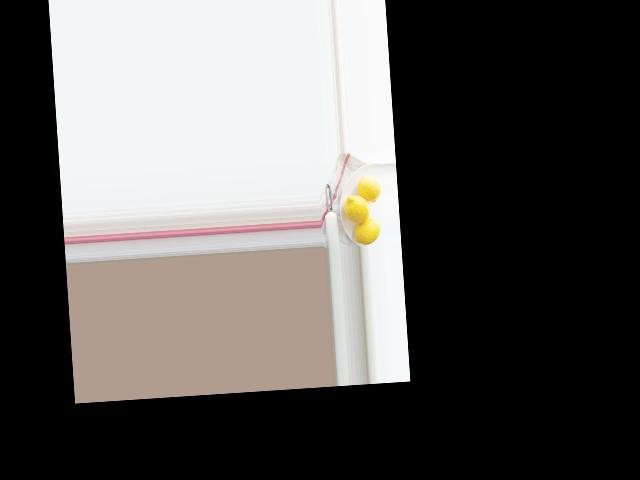lemon: (356, 216, 381, 247)
